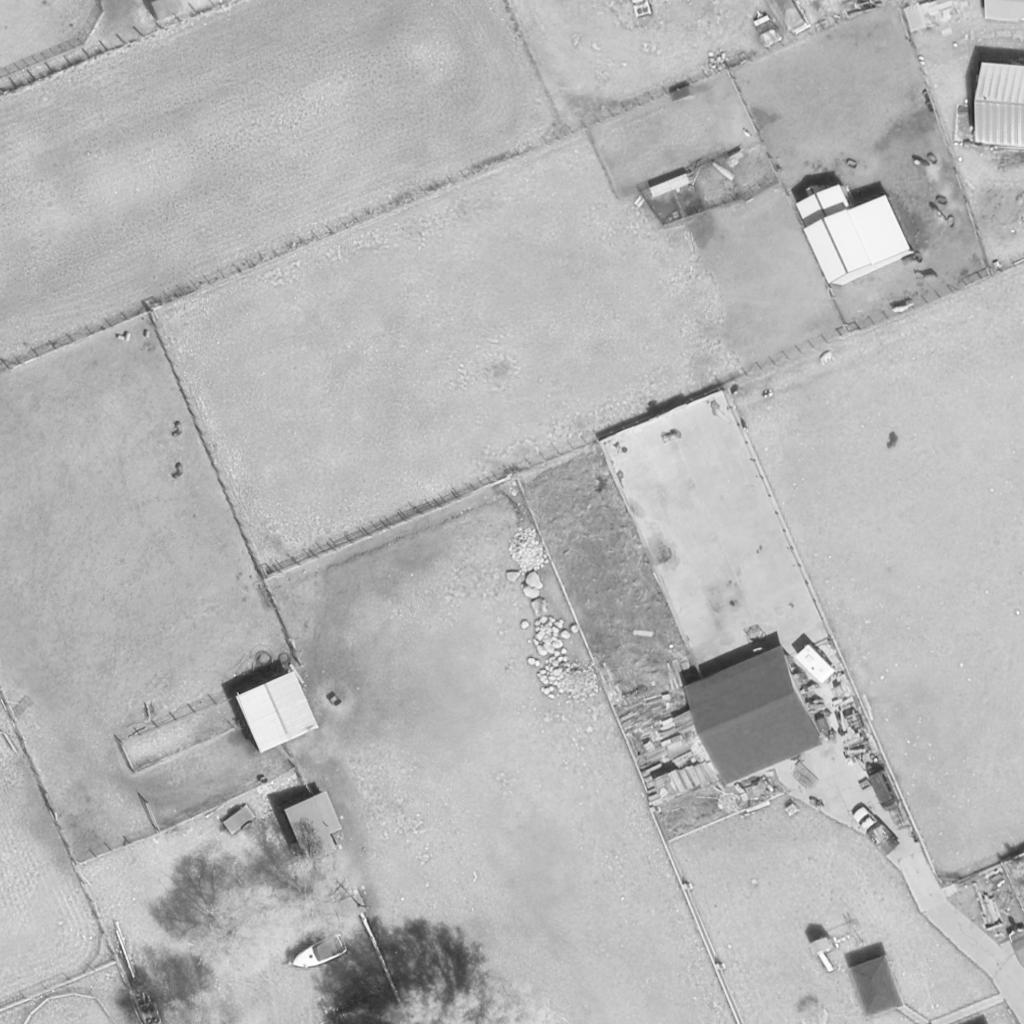vehicle: (850, 806, 902, 854), (288, 936, 350, 974), (793, 644, 837, 684), (870, 768, 900, 814)
